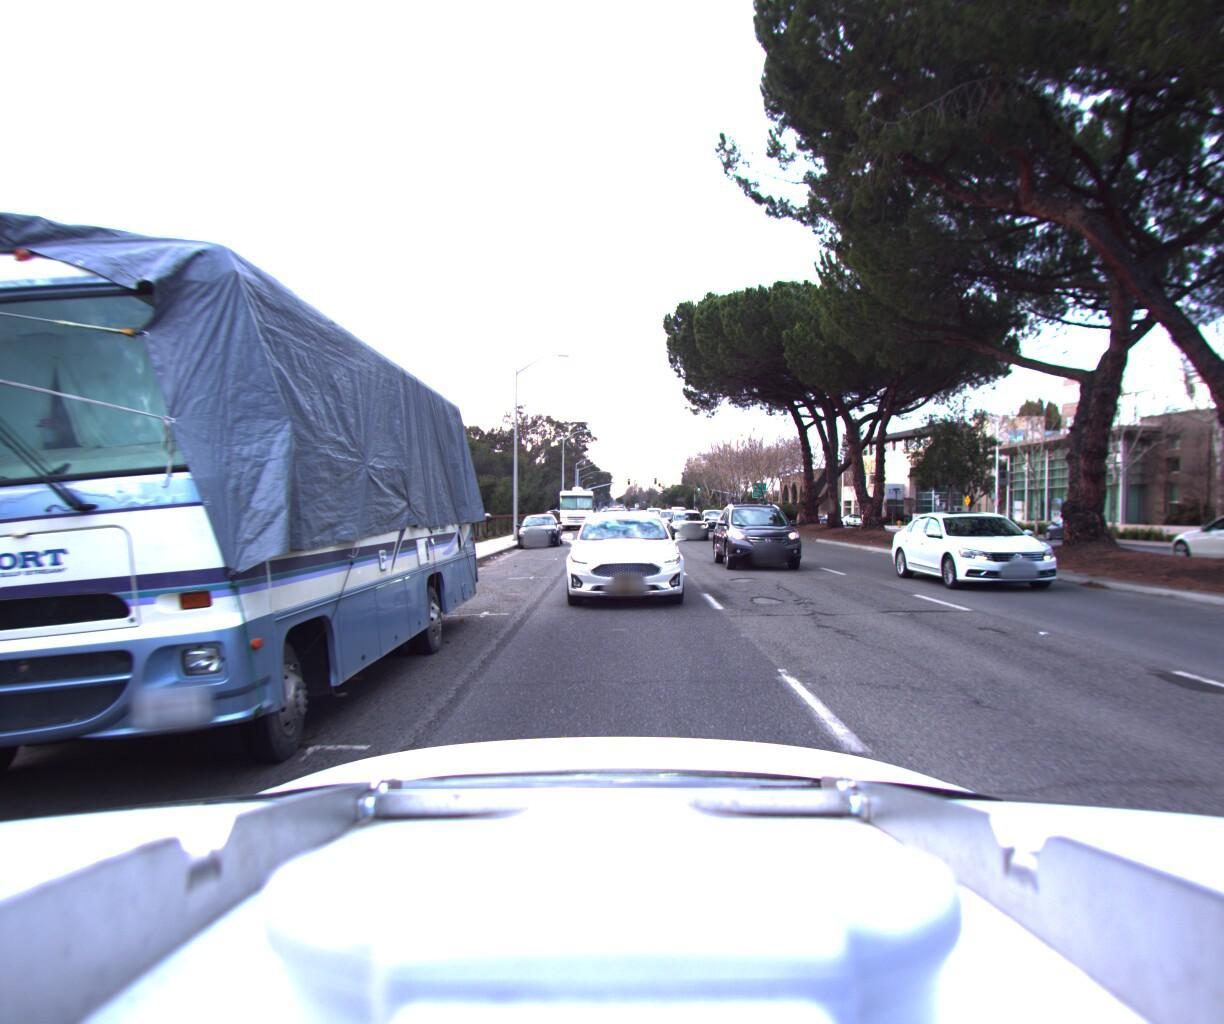bus: (555, 478, 593, 527)
car: (906, 507, 1126, 605), (555, 507, 692, 623), (710, 492, 809, 573), (1129, 510, 1224, 566), (1035, 513, 1107, 541), (664, 510, 715, 545), (515, 510, 561, 547), (694, 506, 731, 531), (650, 506, 685, 531)
truck: (0, 112, 479, 865)
